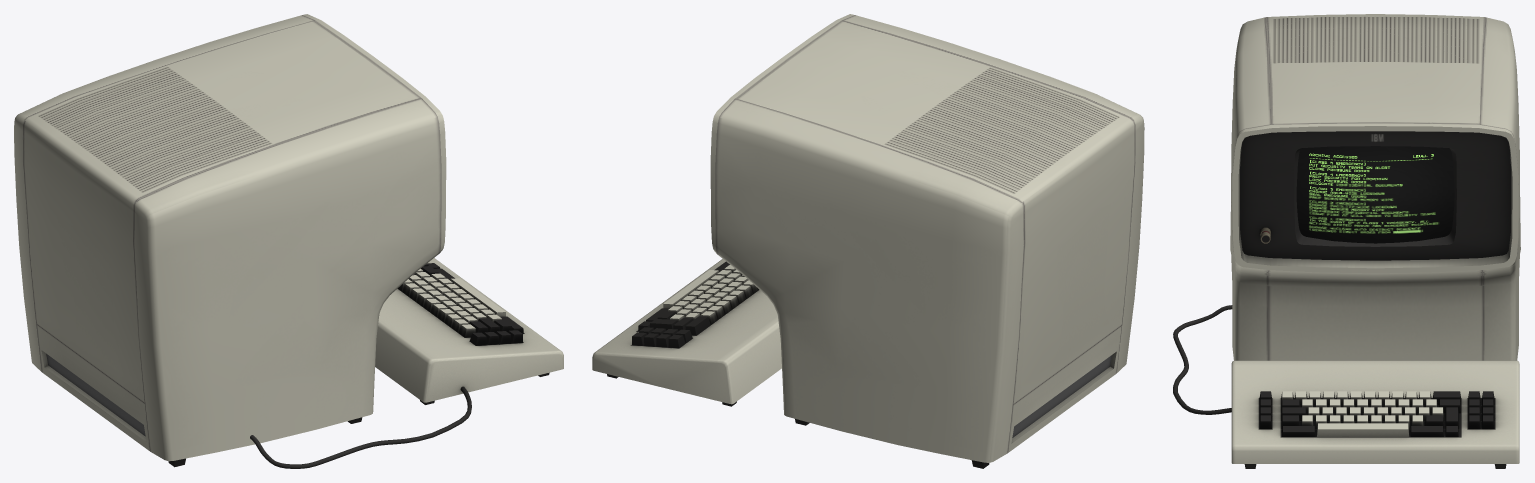
The model's file is terminal.glb.
3 views of the same model, side by side, from view 1: azimuth 30°, elevation 25°; view 2: azimuth 150°, elevation 25°; view 3: azimuth 270°, elevation 25° (orthographic). The views are drawn at different scales.
Parts seen in each view (by area): view 1: ibm_3277; view 2: ibm_3277; view 3: ibm_3277.
Boxes of the visible parts, x1,y1,x2,y2 form: ibm_3277: (14, 14, 563, 468); ibm_3277: (592, 14, 1144, 468); ibm_3277: (1173, 14, 1520, 468).
Bounding box in the file's own units: 38.08 × 26 × 28.16.
Materials: 3 (3 with a texture image).
